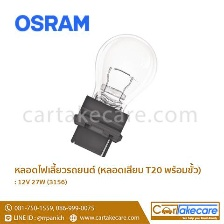light_bulb: (80, 27, 166, 123)
